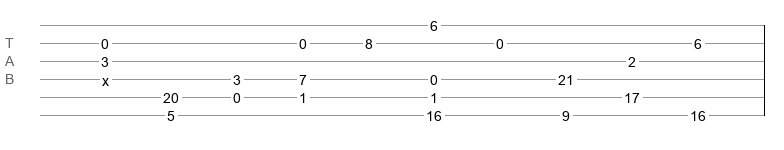0: (101, 36, 109, 46), (233, 90, 241, 100), (299, 36, 307, 46), (430, 72, 438, 82), (496, 36, 504, 46)
1: (299, 90, 307, 100), (430, 90, 438, 100)
16: (426, 108, 442, 118), (690, 108, 706, 118)
17: (624, 90, 640, 100)
2: (628, 54, 636, 64)
20: (163, 90, 179, 100)
21: (558, 72, 574, 82)
3: (101, 54, 109, 64), (233, 72, 241, 82)
5: (167, 108, 175, 118)
6: (430, 18, 438, 28), (694, 36, 702, 46)
7: (299, 72, 307, 82)
8: (365, 36, 373, 46)
9: (562, 108, 570, 118)
x: (102, 73, 109, 81)
